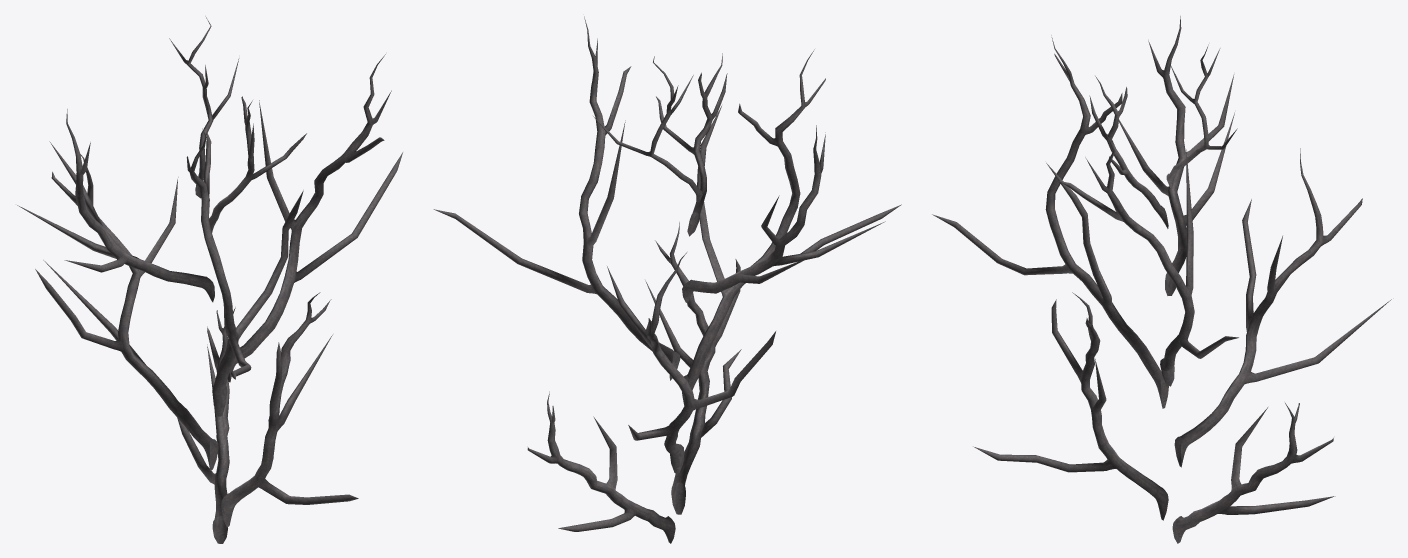
The picture shows the model from 3 angles, left to right: view 1: azimuth 30°, elevation 25°; view 2: azimuth 150°, elevation 25°; view 3: azimuth 270°, elevation 25°; orthographic projection. The views are drawn at different scales.
Parts seen in each view (by area): view 1: SM_FH_Ash_Tree_Bare_Canopy_03_LOD0; view 2: SM_FH_Ash_Tree_Bare_Canopy_03_LOD0; view 3: SM_FH_Ash_Tree_Bare_Canopy_03_LOD0.
Part boxes in pixels (x1,y1,x2,y2): SM_FH_Ash_Tree_Bare_Canopy_03_LOD0: [17, 16, 402, 543]; SM_FH_Ash_Tree_Bare_Canopy_03_LOD0: [433, 16, 901, 543]; SM_FH_Ash_Tree_Bare_Canopy_03_LOD0: [932, 16, 1391, 543].
Size of the model in its own units: 10.29 by 12.56 by 10.51.
1 material, 1 textured.
